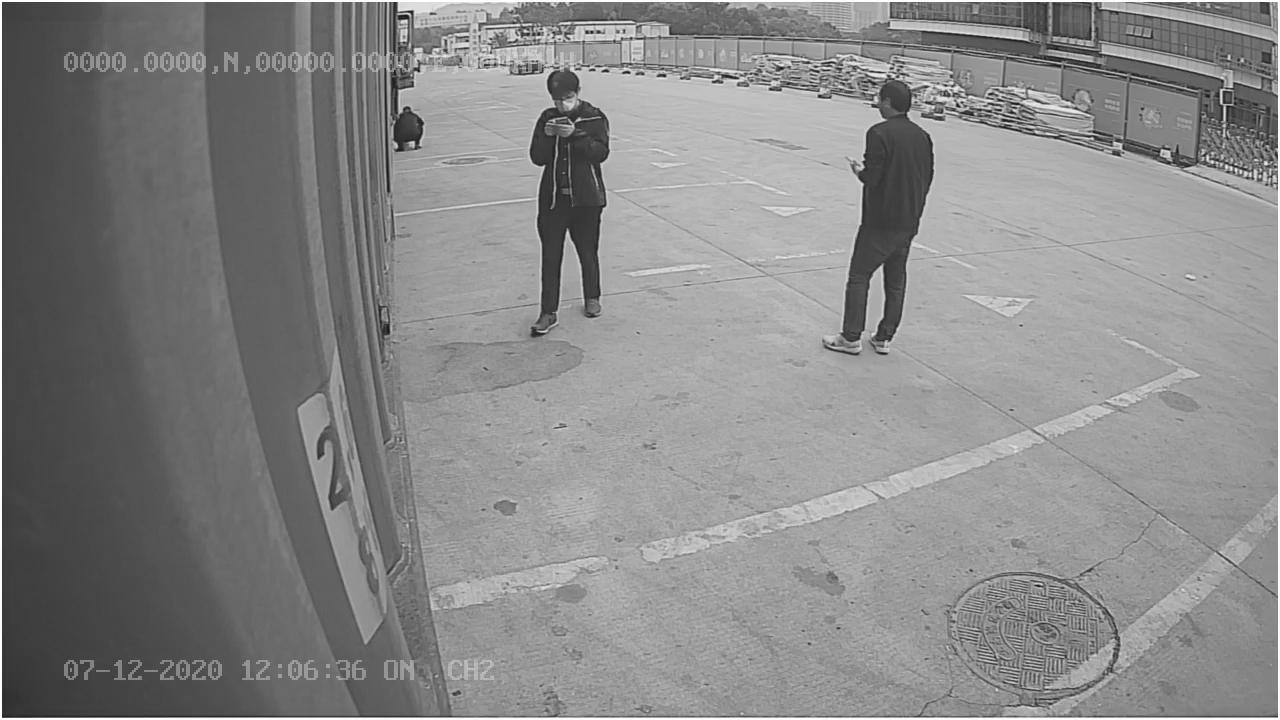person: (821, 72, 940, 360), (522, 59, 610, 333)
